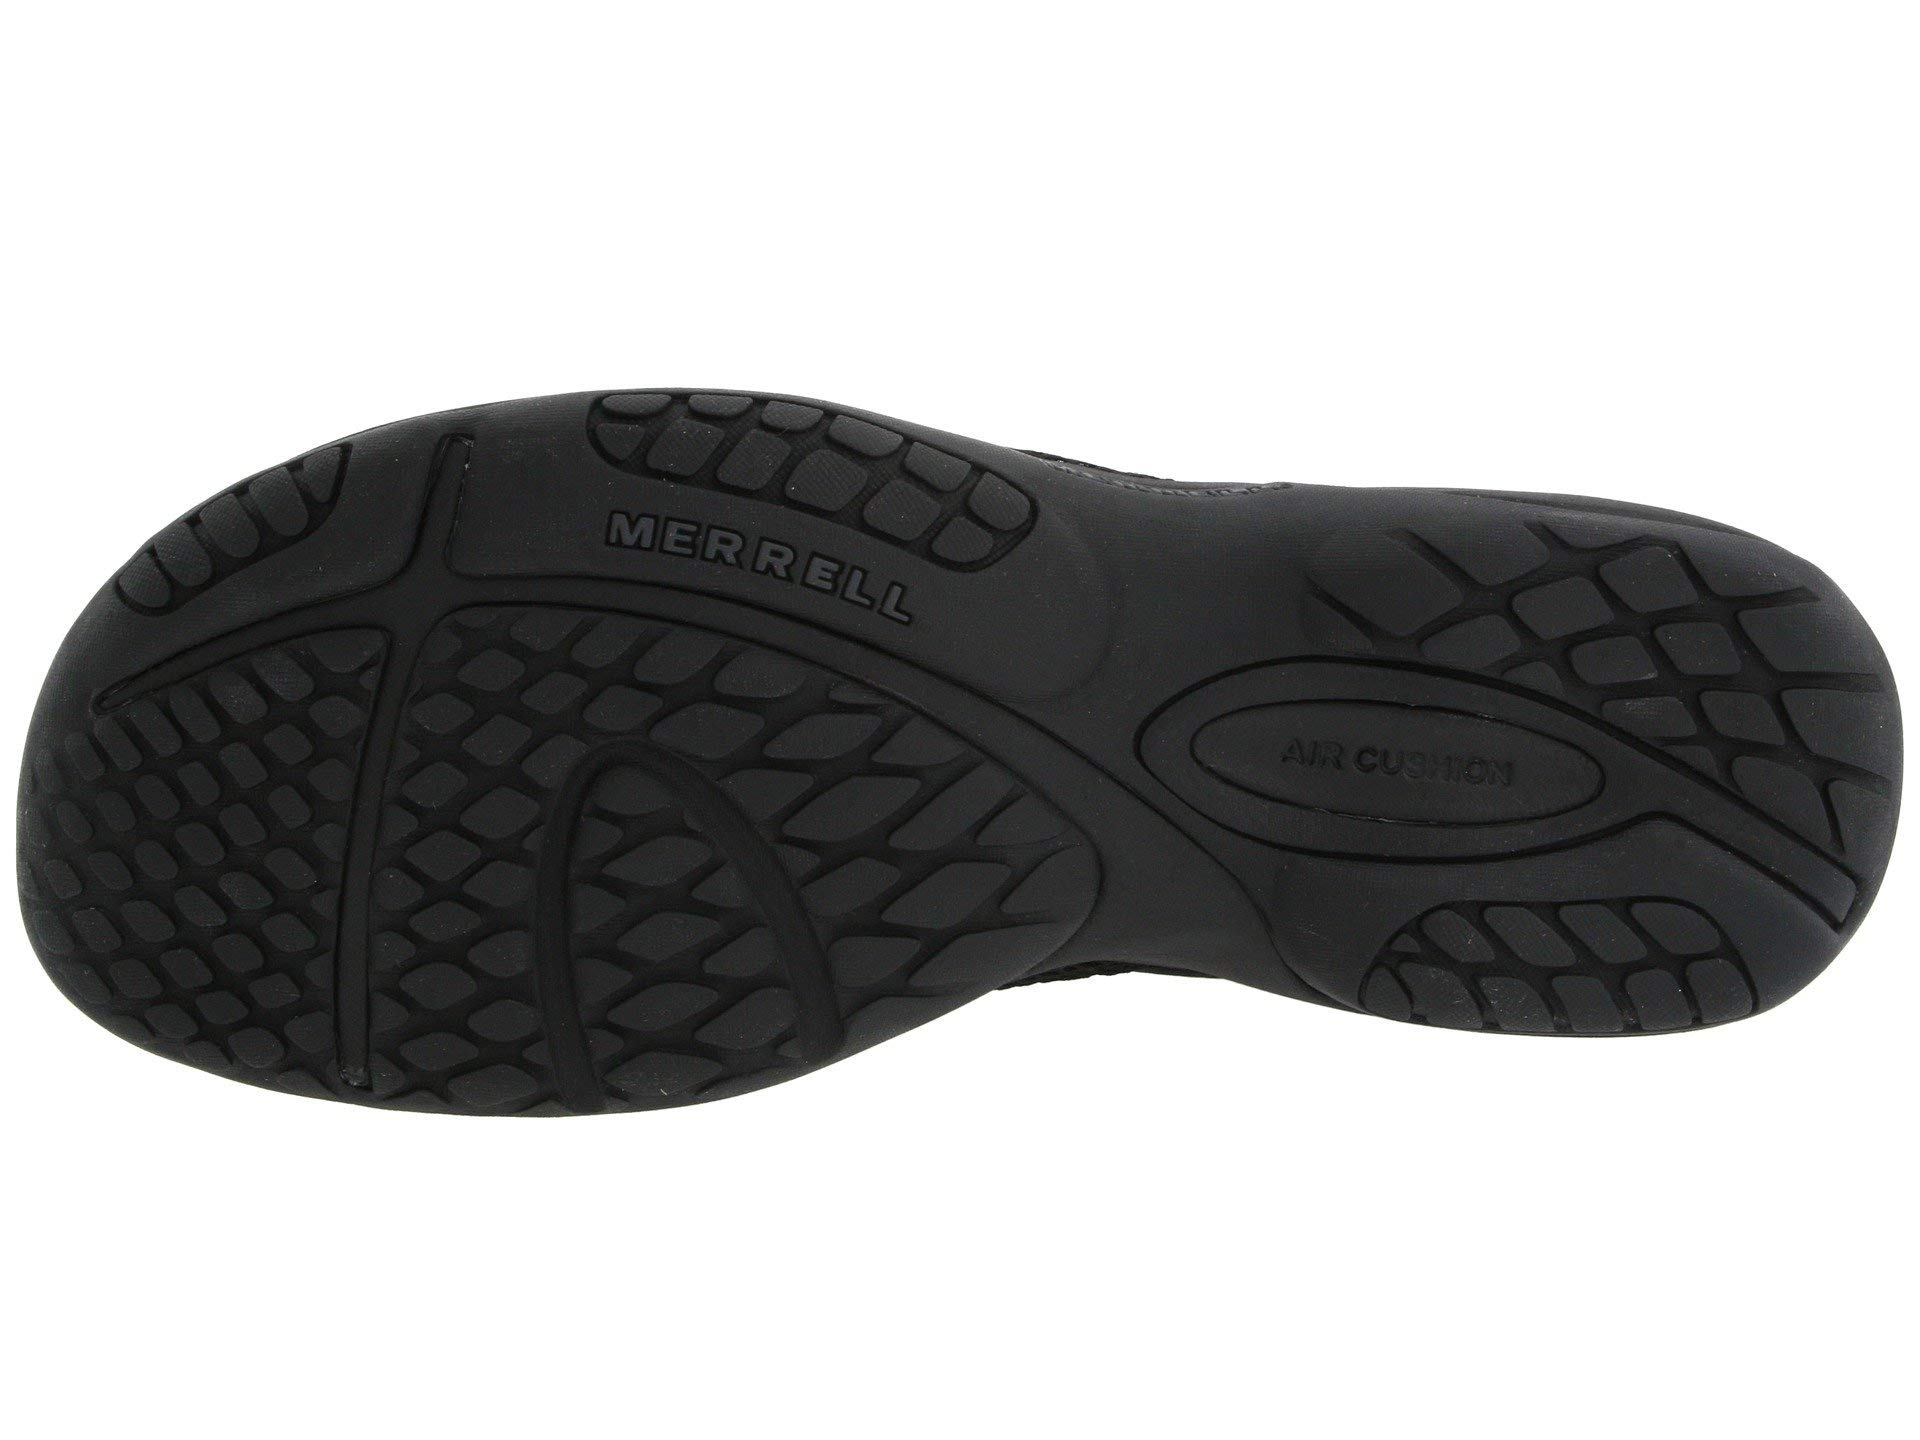quad: (556, 440, 949, 815), (1559, 548, 1831, 818), (398, 864, 664, 1110), (79, 708, 322, 976)
text: (556, 440, 949, 815)
